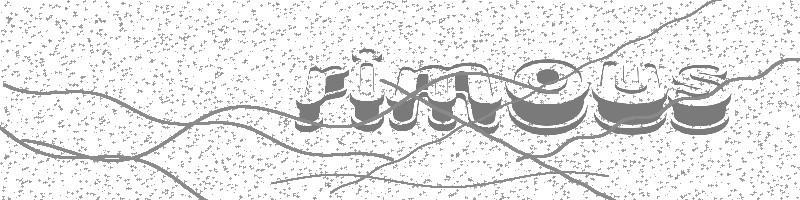i: (347, 43, 389, 132)
m: (386, 62, 502, 132)
o: (502, 59, 594, 139)
r: (298, 56, 348, 136)
s: (668, 61, 738, 139)
u: (591, 56, 668, 139)
